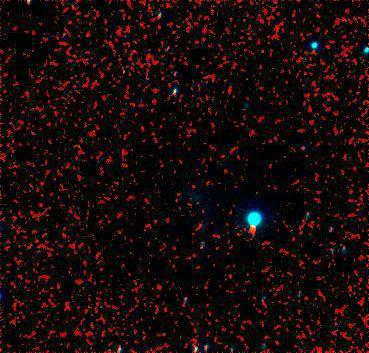star: (237, 216, 267, 246)
